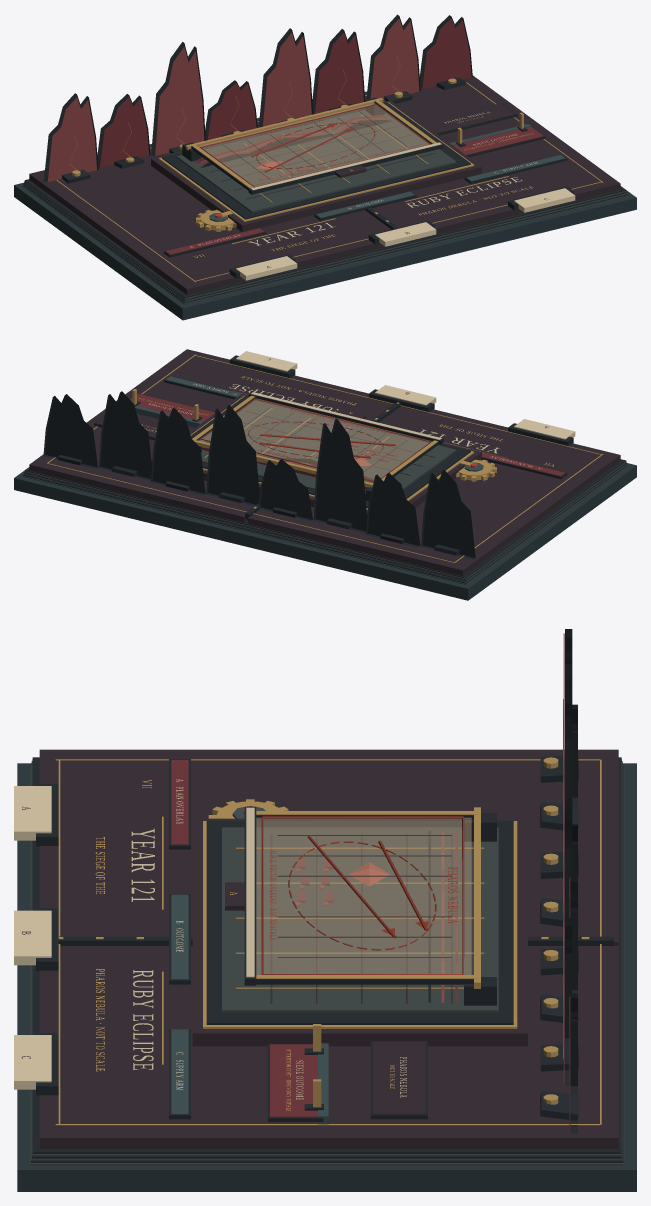
Rendered from palimpsest-f07.glb.
The picture shows the model from 3 angles, top to bottom: view 1: azimuth 30°, elevation 25°; view 2: azimuth 150°, elevation 25°; view 3: azimuth 270°, elevation 25°; orthographic projection. The views are drawn at different scales.
Parts seen in each view (by area): view 1: True dark paper side, True dark paper side.001, Printed tactical upper bed, Bound black cloth cover, F07_PlanVellum, Two ply tactical tab base, Fractured theatre ink face.002, Recessed black relief, Fractured theatre ink face.004, Fractured theatre ink face, Fractured theatre ink face.006, Fractured theatre ink face.005 (+35 smaller); view 2: True dark paper side, True dark paper side.001, Bound black cloth cover, Printed tactical upper bed, F07_PlanVellum, F07 broken campaign scenic silhouette / dyed paper core.002, F07 broken campaign scenic silhouette / dyed paper core.004, F07 broken campaign scenic silhouette / dyed paper core, F07 broken campaign scenic silhouette / dyed paper core.006, F07 broken campaign scenic silhouette / dyed paper core.005, F07 broken campaign scenic silhouette / dyed paper core.001, F07 broken campaign scenic silhouette / dyed paper core.007 (+25 smaller); view 3: True dark paper side.001, True dark paper side, Printed tactical upper bed, F07_PlanVellum, Bound black cloth cover, Recessed black relief, Two ply tactical tab base, Visible sewn black folio edge 5, Sourced scale warning • pigment print, B fixed outcome plate • pigment print, Cardboard tactical section with ochre printed edge, Visible sewn black folio edge 0 (+31 smaller).
Part boxes in pixels (bbox=[...]): True dark paper side: bbox=[29, 144, 390, 295]; True dark paper side.001: bbox=[257, 75, 620, 234]; Printed tactical upper bed: bbox=[176, 110, 456, 212]; Bound black cloth cover: bbox=[14, 182, 636, 320]; F07_PlanVellum: bbox=[199, 103, 428, 186]; Two ply tactical tab base: bbox=[151, 100, 481, 231]; Fractured theatre ink face.002: bbox=[155, 46, 204, 155]; Recessed black relief: bbox=[162, 102, 470, 219]; Fractured theatre ink face.004: bbox=[262, 32, 311, 126]; Fractured theatre ink face: bbox=[47, 97, 96, 182]; Fractured theatre ink face.006: bbox=[370, 18, 419, 100]; Fractured theatre ink face.005: bbox=[314, 33, 363, 113]; True dark paper side: bbox=[247, 406, 620, 576]; True dark paper side.001: bbox=[29, 349, 392, 522]; Bound black cloth cover: bbox=[14, 463, 636, 600]; Printed tactical upper bed: bbox=[200, 400, 456, 503]; F07_PlanVellum: bbox=[198, 398, 431, 482]; F07 broken campaign scenic silhouette / dyed paper core.002: bbox=[313, 418, 366, 533]; F07 broken campaign scenic silhouette / dyed paper core.004: bbox=[206, 405, 259, 506]; F07 broken campaign scenic silhouette / dyed paper core: bbox=[421, 470, 475, 559]; F07 broken campaign scenic silhouette / dyed paper core.006: bbox=[98, 391, 151, 480]; F07 broken campaign scenic silhouette / dyed paper core.005: bbox=[151, 408, 205, 495]; F07 broken campaign scenic silhouette / dyed paper core.001: bbox=[365, 473, 420, 547]; F07 broken campaign scenic silhouette / dyed paper core.007: bbox=[43, 394, 97, 468]; True dark paper side.001: bbox=[39, 945, 618, 1148]; True dark paper side: bbox=[39, 749, 618, 945]; Printed tactical upper bed: bbox=[222, 827, 498, 1013]; F07_PlanVellum: bbox=[256, 818, 471, 974]; Bound black cloth cover: bbox=[17, 763, 636, 1191]; Recessed black relief: bbox=[206, 820, 513, 1024]; Two ply tactical tab base: bbox=[192, 818, 527, 1046]; Visible sewn black folio edge 5: bbox=[32, 757, 621, 1153]; Sourced scale warning • pigment print: bbox=[373, 1041, 425, 1114]; B fixed outcome plate • pigment print: bbox=[270, 1044, 317, 1117]; Cardboard tactical section with ochre printed edge: bbox=[203, 821, 517, 1028]; Visible sewn black folio edge 0: bbox=[30, 766, 624, 1165].
Bounding box in the file's own units: 6.4 × 1.77 × 4.14.
